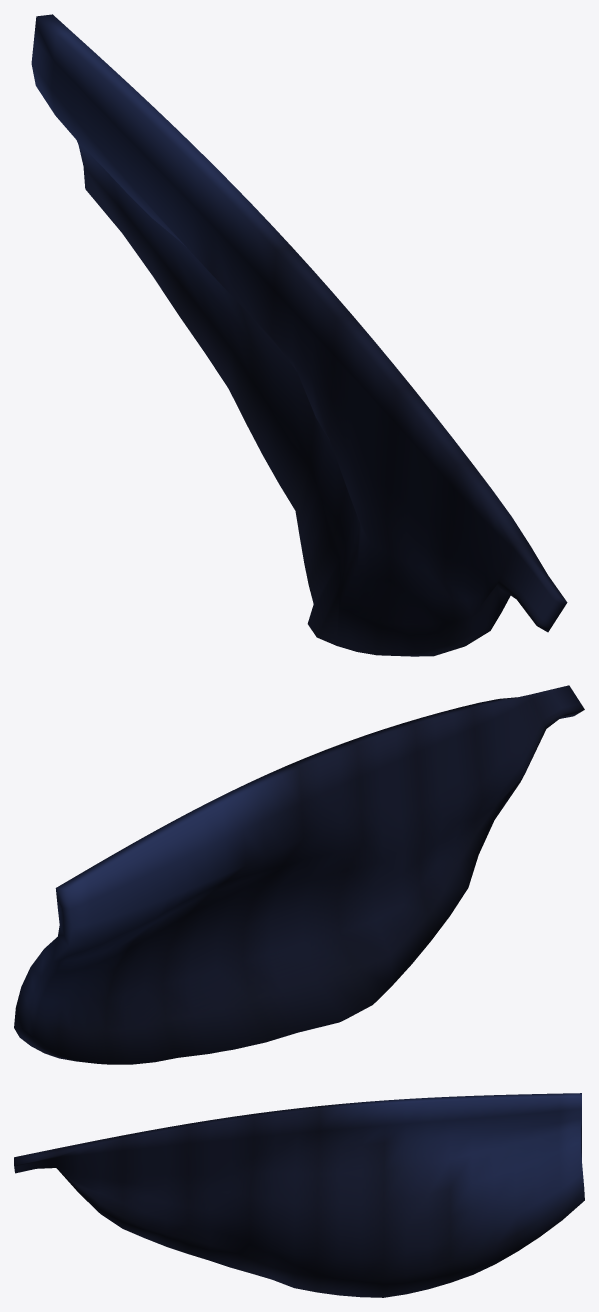
File: Tsubame_WingFolded.fbx
3 views of the same model, one above another, from view 1: azimuth 30°, elevation 25°; view 2: azimuth 150°, elevation 25°; view 3: azimuth 270°, elevation 25° (orthographic). The views are drawn at different scales.
Parts seen in each view (by area): view 1: Tsubame_WingFolded; view 2: Tsubame_WingFolded; view 3: Tsubame_WingFolded.
Part boxes in pixels (bbox=[...]): Tsubame_WingFolded: bbox=[31, 14, 567, 656]; Tsubame_WingFolded: bbox=[14, 685, 584, 1064]; Tsubame_WingFolded: bbox=[14, 1093, 584, 1297].
Bounding box in the file's own units: 0.7417 × 1.61 × 4.29.
